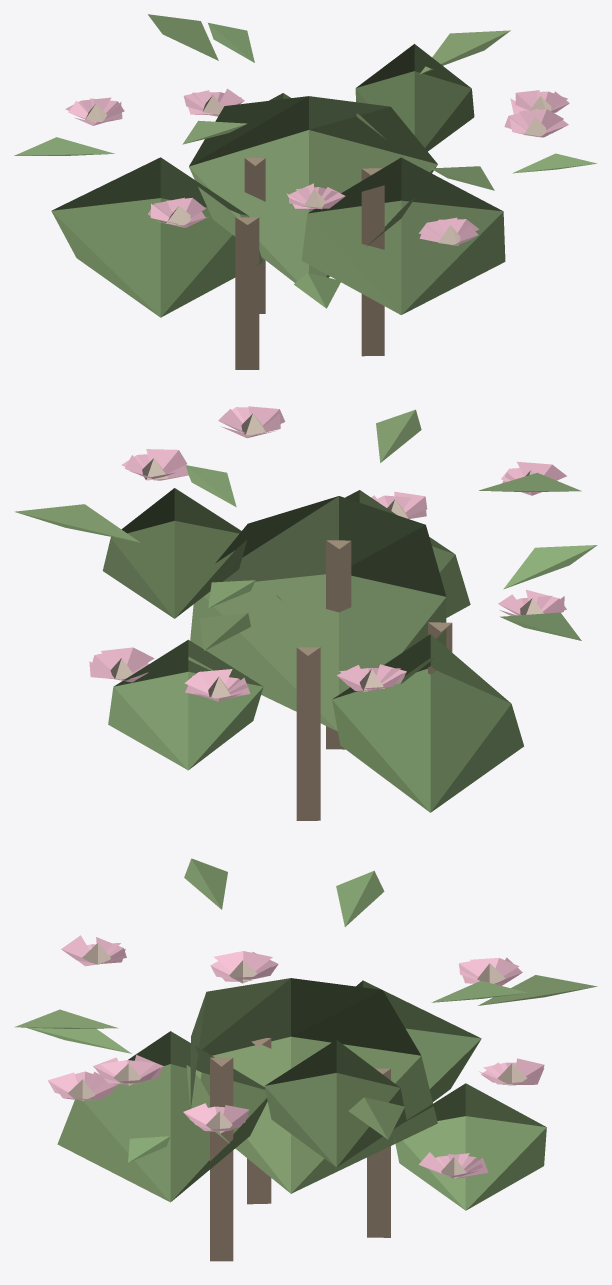
Rendered from guan.dujuan__spring.glb.
The picture shows the model from 3 angles, top to bottom: view 1: azimuth 30°, elevation 25°; view 2: azimuth 150°, elevation 25°; view 3: azimuth 270°, elevation 25°; orthographic projection. The views are drawn at different scales.
Visible parts, largest first — view 1: guan.dujuan__spring; view 2: guan.dujuan__spring; view 3: guan.dujuan__spring.
Part boxes in pixels (x1=…): guan.dujuan__spring: x1=14, y1=14, x2=596, y2=369; guan.dujuan__spring: x1=14, y1=406, x2=597, y2=820; guan.dujuan__spring: x1=14, y1=858, x2=597, y2=1261.
Bounding box in the file's own units: 2.66 × 1.4 × 2.46.
